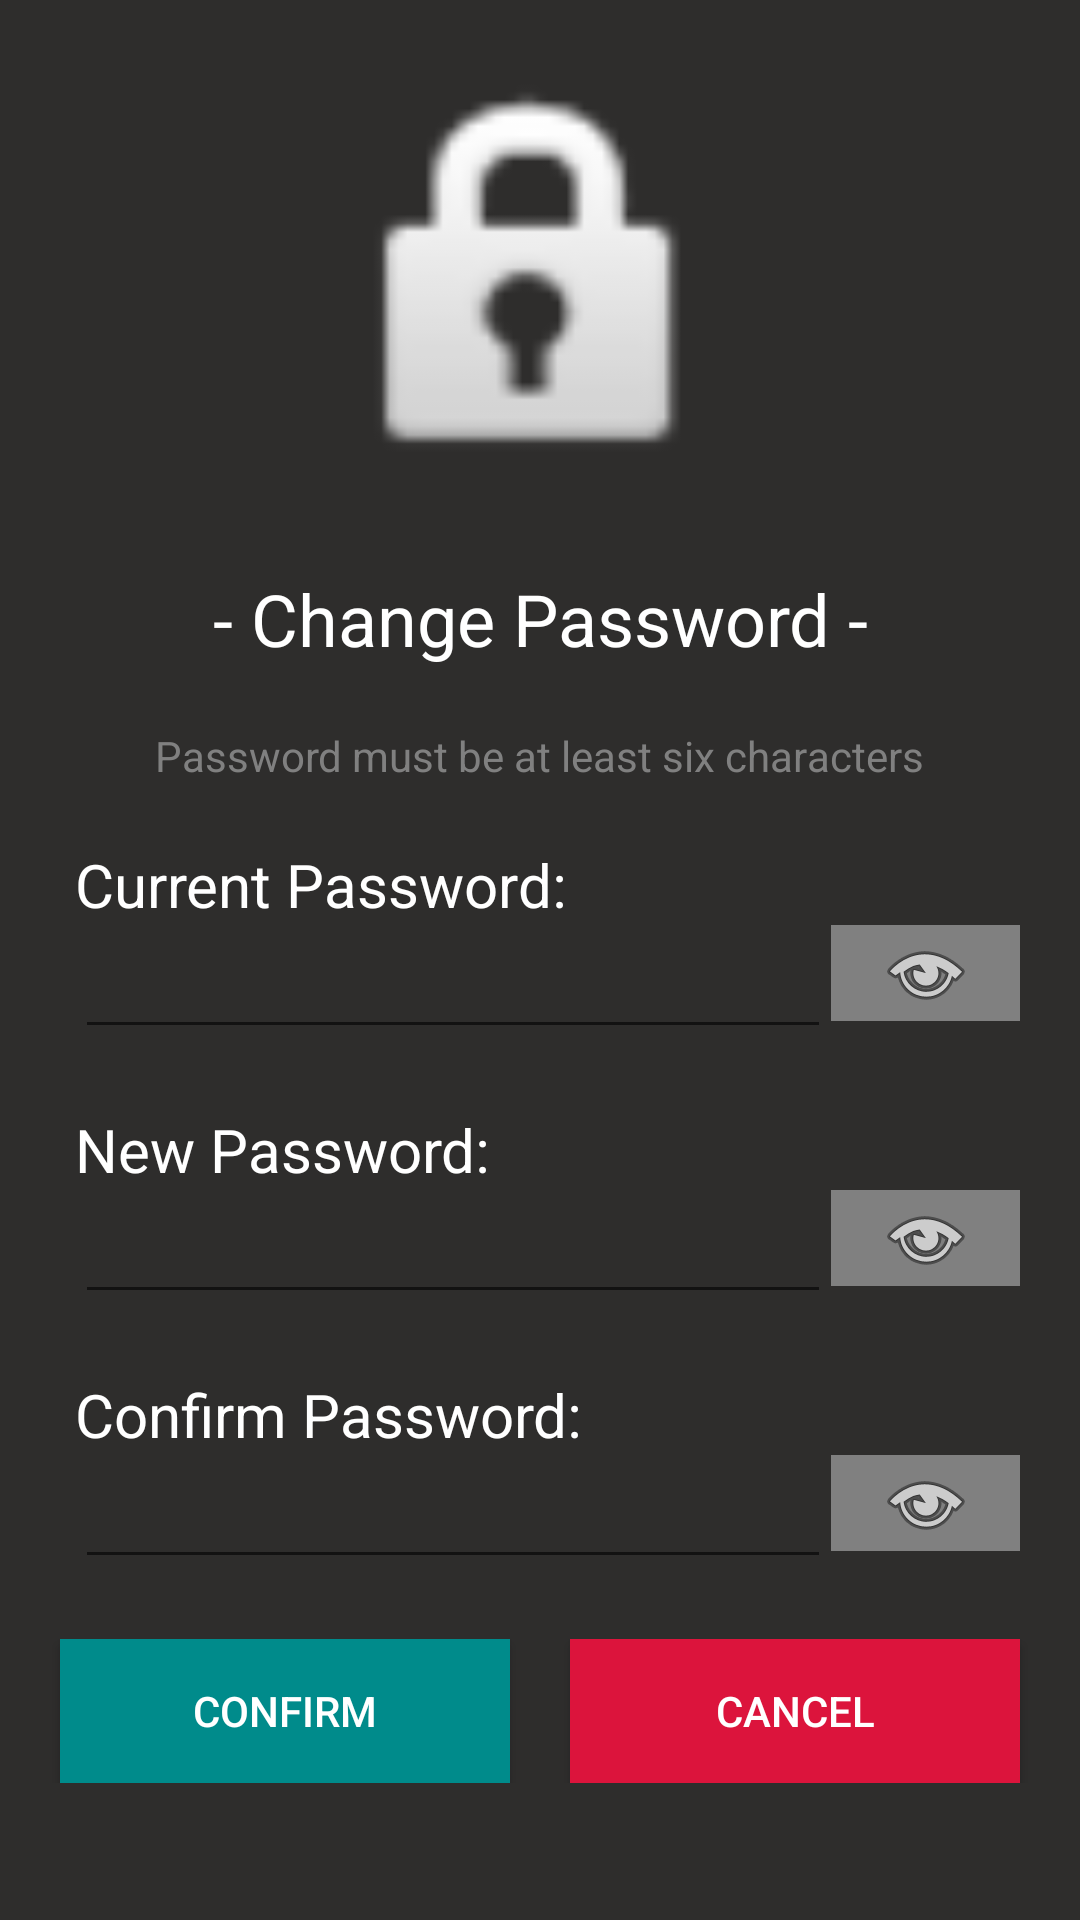

Icons on this 1080 x 1920 Android screen, each with its box as (x1, y1, x2, y2):
lock idle: (382, 97, 677, 443)
view: (831, 925, 1020, 1021), (831, 1190, 1020, 1286), (831, 1455, 1020, 1551)
